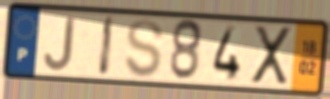4: (210, 25, 243, 83)
8: (167, 18, 205, 84)
I: (97, 14, 117, 79)
J: (42, 15, 77, 73)
S: (122, 17, 166, 80)
X: (250, 24, 293, 87)
